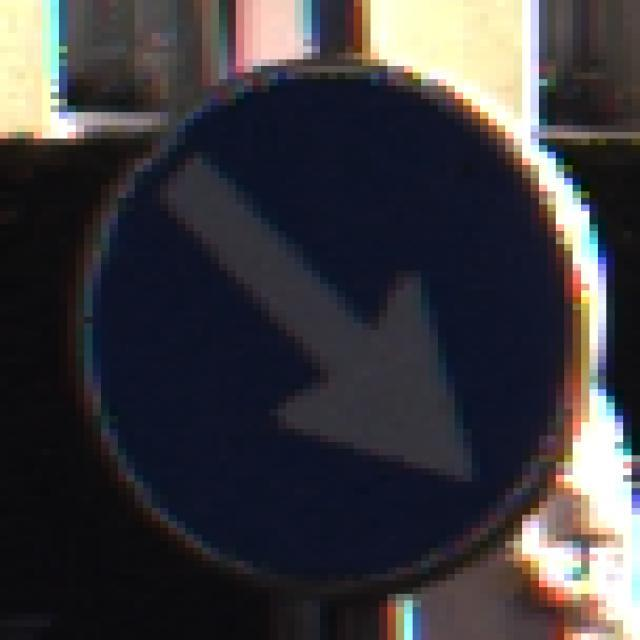compulsary keep right: (77, 60, 575, 577)
